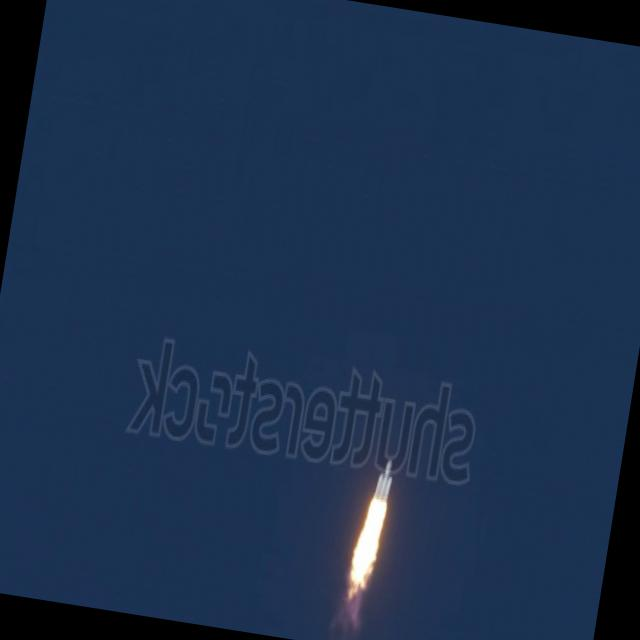rocket: (348, 462, 394, 594)
